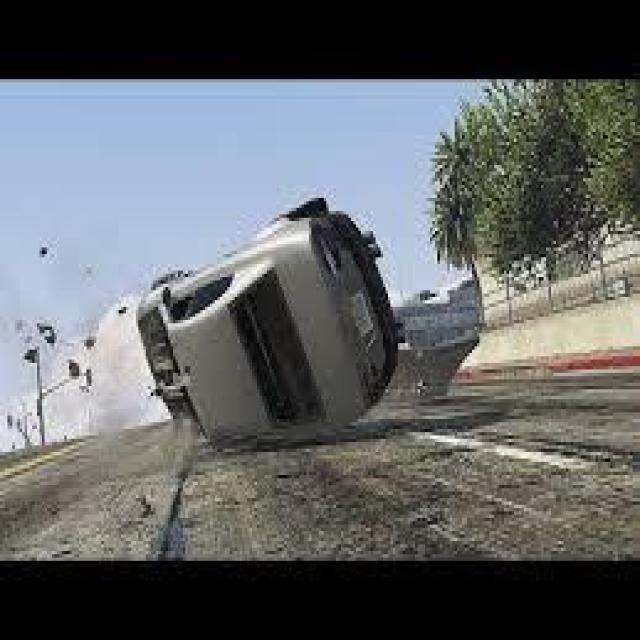severe: (128, 188, 403, 452)
